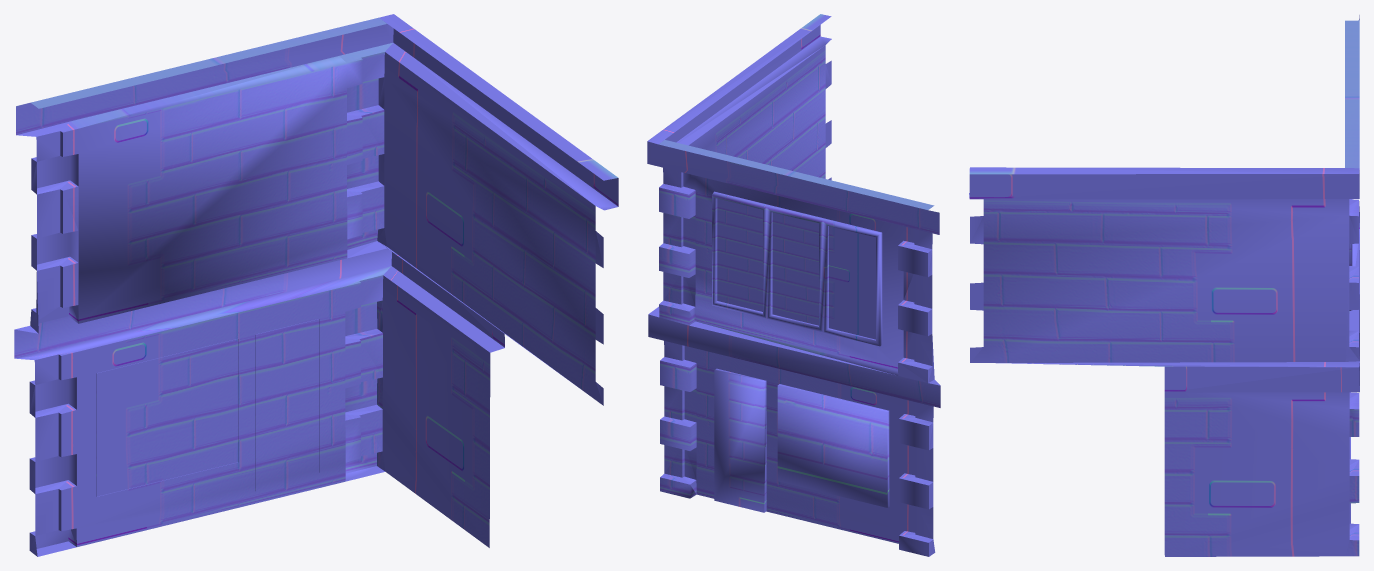
Rendered from lefthouselowerfull.fbx.
3 renders of one model, left to right at view 1: azimuth 30°, elevation 25°; view 2: azimuth 150°, elevation 25°; view 3: azimuth 270°, elevation 25°, orthographic. The views are drawn at different scales.
Parts seen in each view (by area): view 1: LowerHouse; view 2: LowerHouse; view 3: LowerHouse.
Part boxes in pixels (box(x1,y1,x2,y2)): LowerHouse: box(14, 14, 618, 556); LowerHouse: box(647, 14, 940, 556); LowerHouse: box(969, 15, 1359, 556).
Size of the model in its own units: 132 by 149 by 135.
